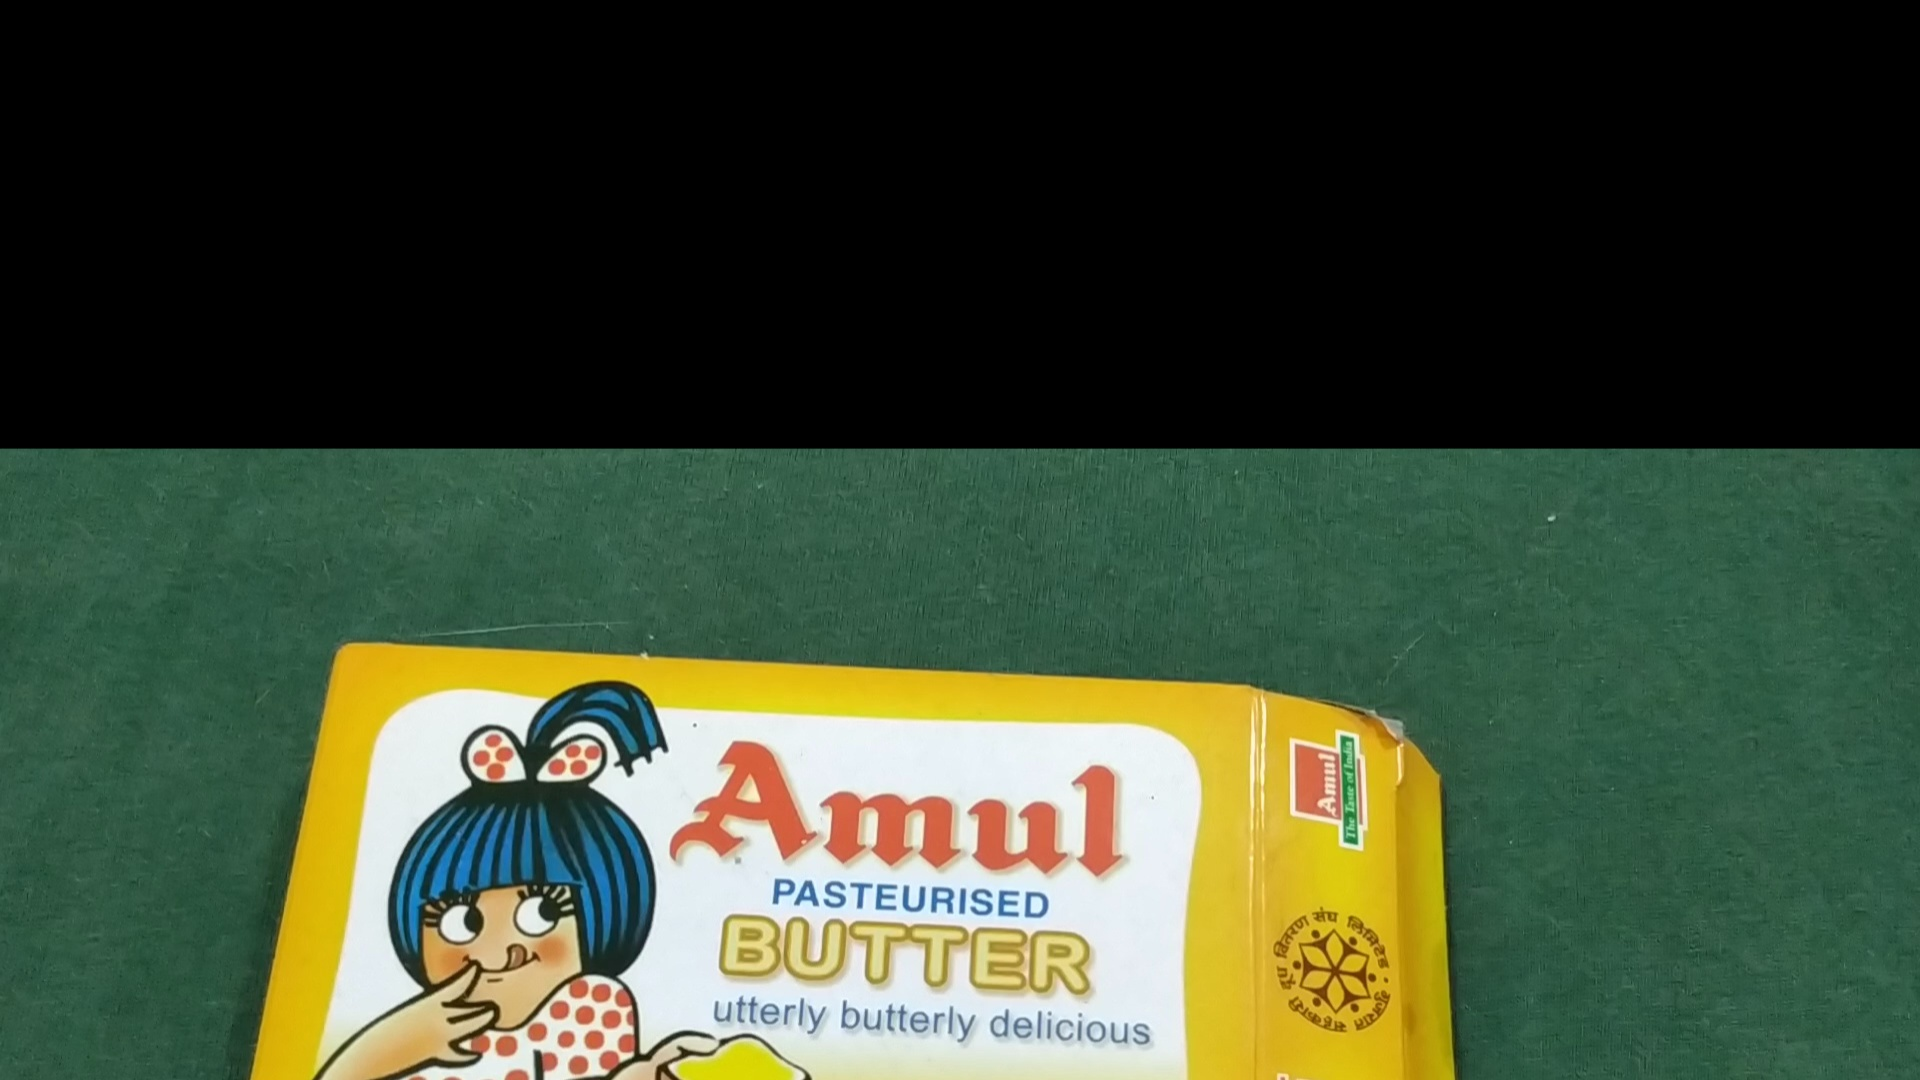amul_butter: (210, 642, 1457, 1080)
